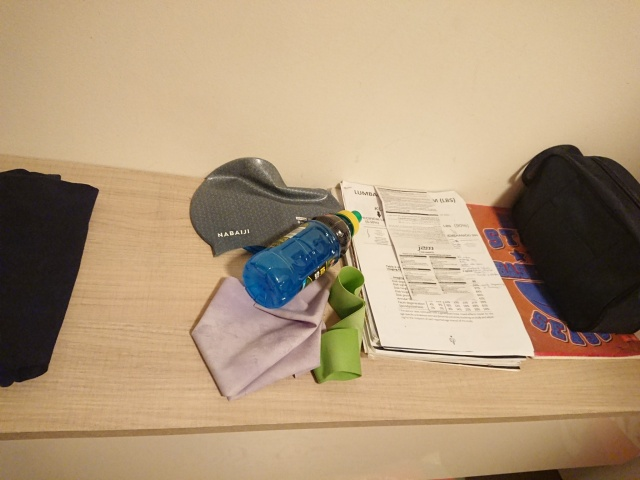Vindi Iso Sport Forest Strawberries 500mL: (240, 207, 362, 310)
